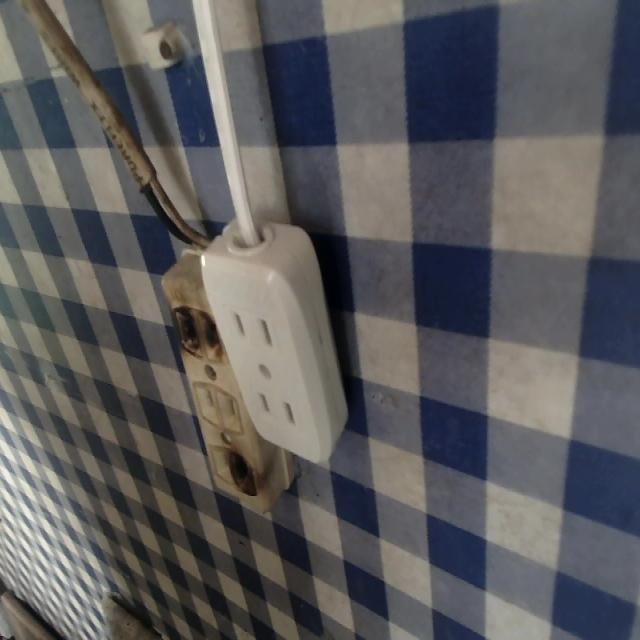-: (168, 301, 225, 367), (220, 441, 261, 500)
